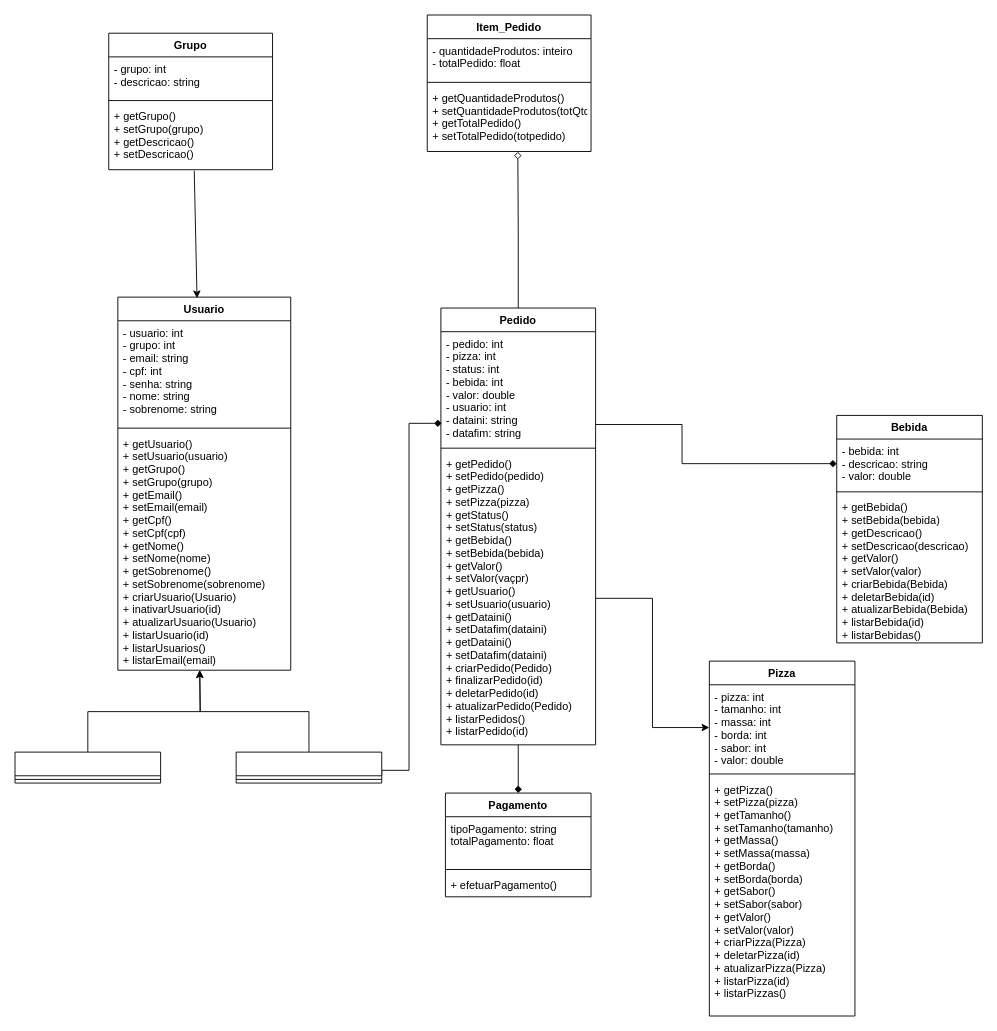
The diagram is 997 pixels wide and 1031 high, and some of its shapes have lost their labels. The shapes that lost their labels are listed below. From the top down, each one's centre as x and y in pixels, then its label:
(87,767): Funcionario
(308,767): Cliente
